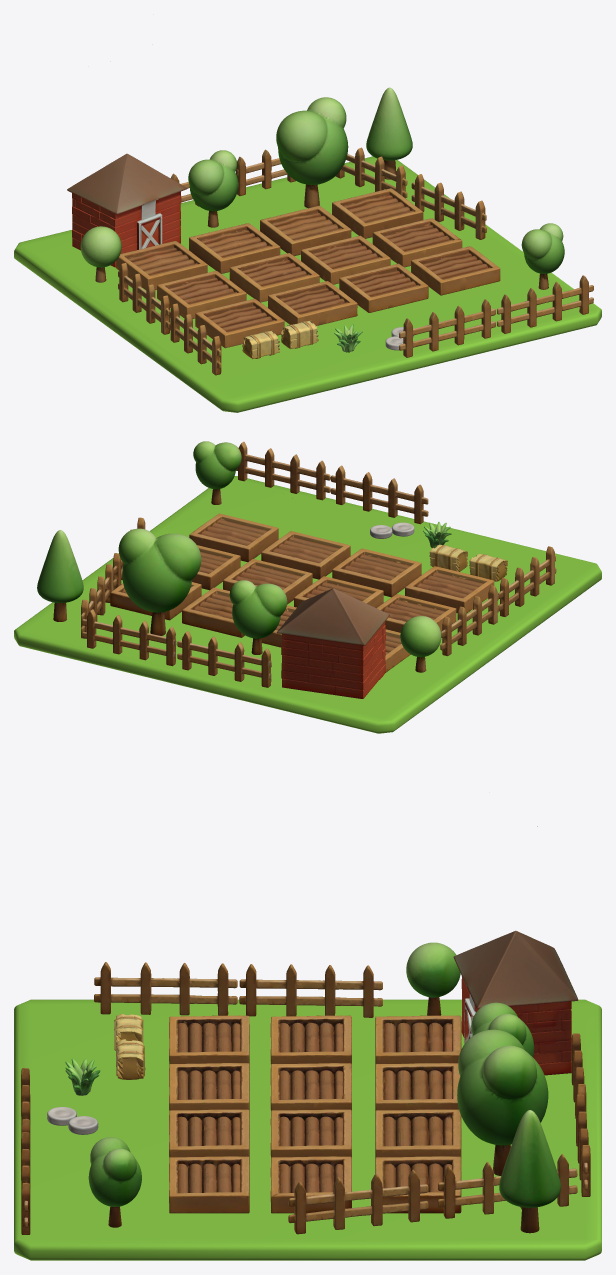
File: farm_1.glb
The picture shows the model from 3 angles, top to bottom: view 1: azimuth 30°, elevation 25°; view 2: azimuth 150°, elevation 25°; view 3: azimuth 270°, elevation 25°; orthographic projection. The views are drawn at different scales.
Parts seen in each view (by area): view 1: 큐브, farm scene 3d model.002, farm scene 3d model.004, farm scene 3d model.010, farm scene 3d model.011, farm scene 3d model.012, farm scene 3d model.009, farm scene 3d model.014, farm scene 3d model.016, farm scene 3d model.013, farm scene 3d model.018, farm scene 3d model.017 (+5 smaller); view 2: 큐브, farm scene 3d model.002, farm scene 3d model.004, farm scene 3d model.010, farm scene 3d model.011, farm scene 3d model.012, farm scene 3d model.009, farm scene 3d model.020, farm scene 3d model.005, farm scene 3d model.014, farm scene 3d model.013, farm scene 3d model.017 (+8 smaller); view 3: 큐브, farm scene 3d model.002, farm scene 3d model.004, farm scene 3d model.010, farm scene 3d model.012, farm scene 3d model.016, farm scene 3d model.018, farm scene 3d model.017, farm scene 3d model.013, farm scene 3d model.015, farm scene 3d model.003, farm scene 3d model.011 (+7 smaller).
Boxes of the visible parts, box(x1,y1,x2,y2) form: 큐브: box(14, 156, 601, 412); farm scene 3d model.002: box(116, 188, 500, 348); farm scene 3d model.004: box(67, 153, 187, 267); farm scene 3d model.010: box(276, 97, 348, 208); farm scene 3d model.011: box(188, 150, 238, 227); farm scene 3d model.012: box(366, 87, 412, 179); farm scene 3d model.009: box(399, 299, 495, 357); farm scene 3d model.014: box(497, 275, 593, 333); farm scene 3d model.016: box(411, 174, 486, 239); farm scene 3d model.013: box(521, 223, 564, 289); farm scene 3d model.018: box(169, 303, 221, 375); farm scene 3d model.017: box(118, 263, 169, 334); 큐브: box(14, 476, 601, 733); farm scene 3d model.002: box(110, 513, 494, 672); farm scene 3d model.004: box(276, 588, 389, 698); farm scene 3d model.010: box(118, 528, 201, 635); farm scene 3d model.011: box(229, 580, 287, 654); farm scene 3d model.012: box(37, 530, 83, 621); farm scene 3d model.009: box(330, 465, 428, 524); farm scene 3d model.020: box(177, 631, 271, 687); farm scene 3d model.005: box(82, 609, 176, 666); farm scene 3d model.014: box(236, 441, 330, 500); farm scene 3d model.013: box(193, 441, 241, 504); farm scene 3d model.017: box(440, 585, 498, 656); 큐브: box(14, 999, 601, 1260); farm scene 3d model.002: box(169, 1015, 461, 1213); farm scene 3d model.004: box(453, 930, 578, 1075); farm scene 3d model.010: box(457, 1029, 548, 1175); farm scene 3d model.012: box(499, 1110, 560, 1233); farm scene 3d model.016: box(288, 1169, 428, 1234); farm scene 3d model.018: box(94, 962, 237, 1015); farm scene 3d model.017: box(239, 964, 382, 1017); farm scene 3d model.013: box(88, 1137, 141, 1227); farm scene 3d model.015: box(437, 1154, 577, 1218); farm scene 3d model.003: box(406, 942, 460, 1015); farm scene 3d model.011: box(471, 1002, 534, 1056).
Size of the model in its own units: 1.02 by 0.5882 by 1.02.
2 materials, 1 textured.
